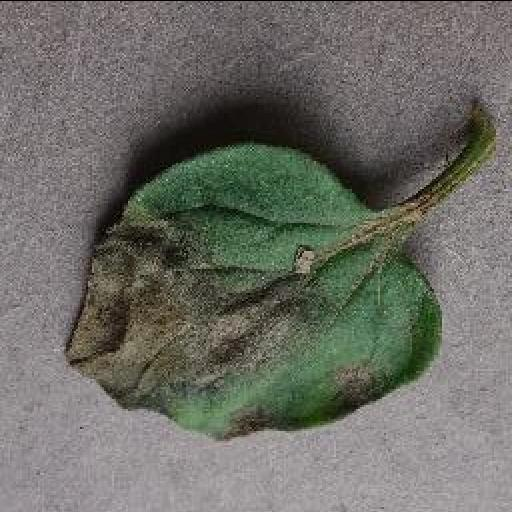disease_tomato: (63, 140, 441, 438)
